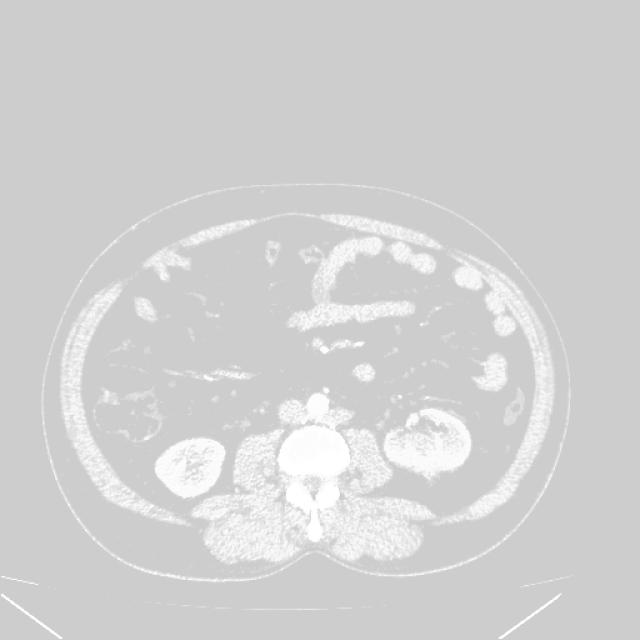TUMOR: (88, 270, 583, 533)
